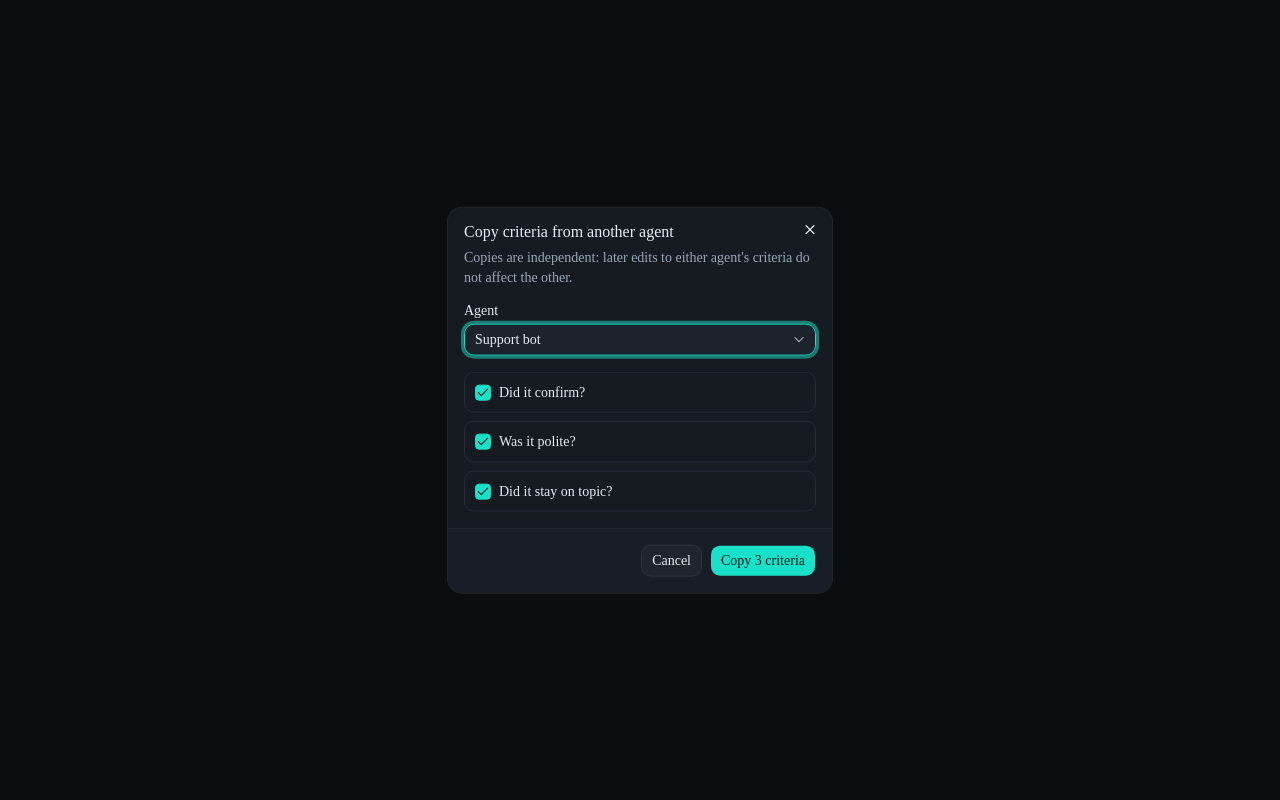
Test: CopyCriteriaDialog › starts from a full selection again after switching the source agent
Click the checkbox named "Was it polite?" next to "Was it polite?".
click(483, 442)  # box [475,434,491,450]
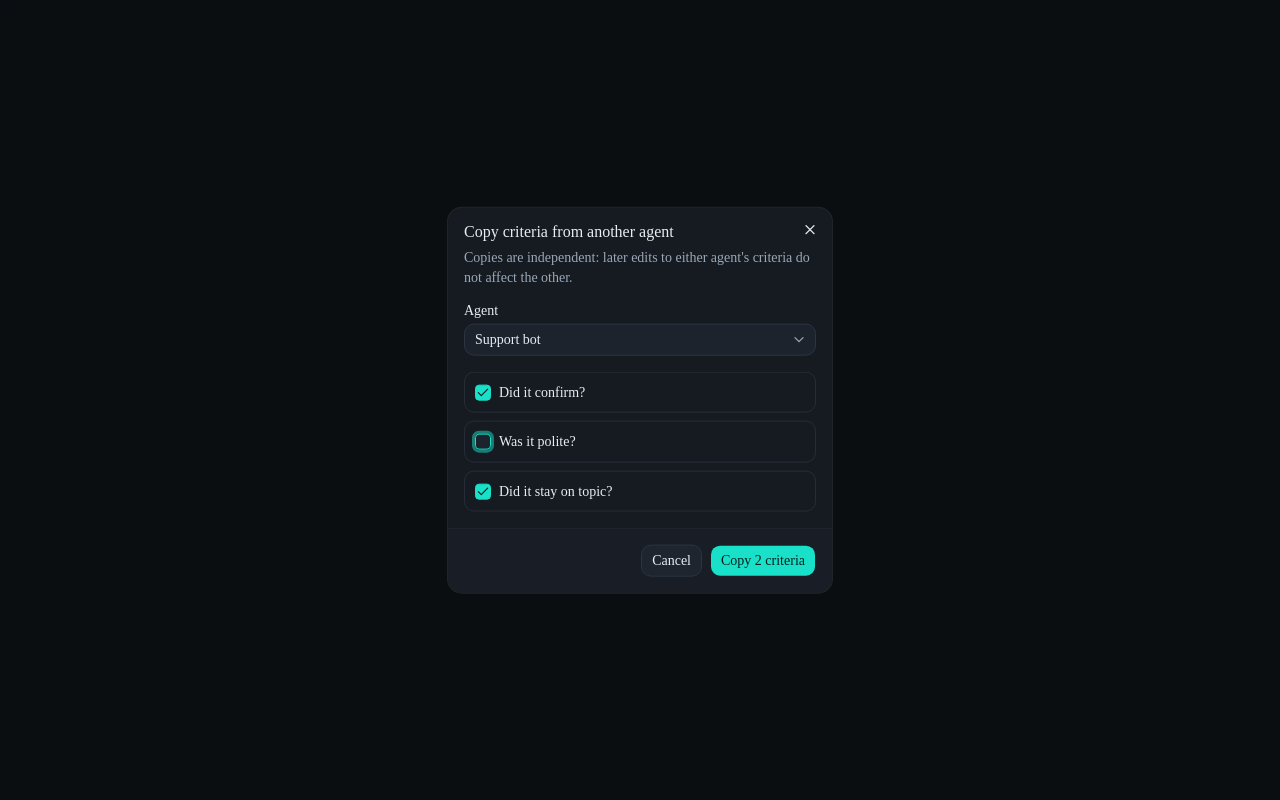
Expected: the button "Copy 2 criteria" is shown, [710,544,816,576]
Click the dropdown.
click(508, 339)  # box [464,324,816,356]
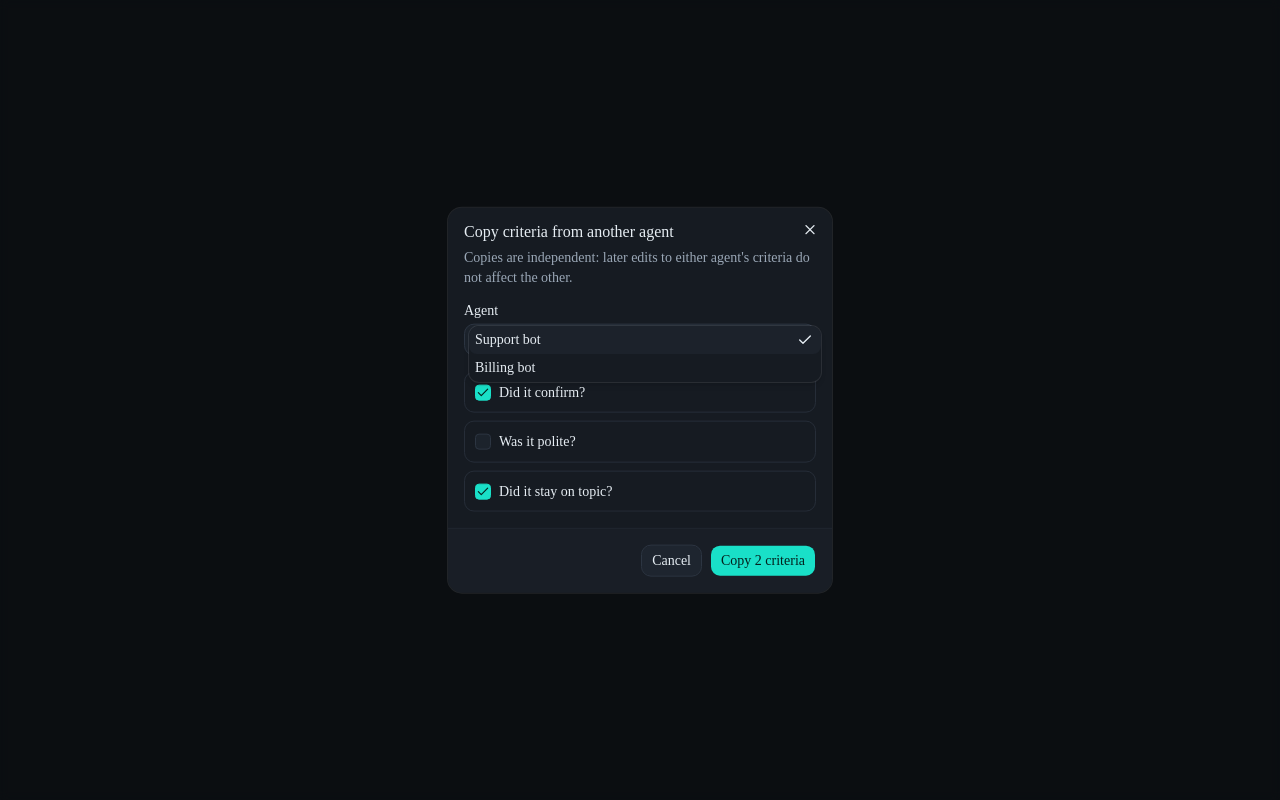
Click the option "Billing bot".
click(505, 367)  # box [475,360,535,375]
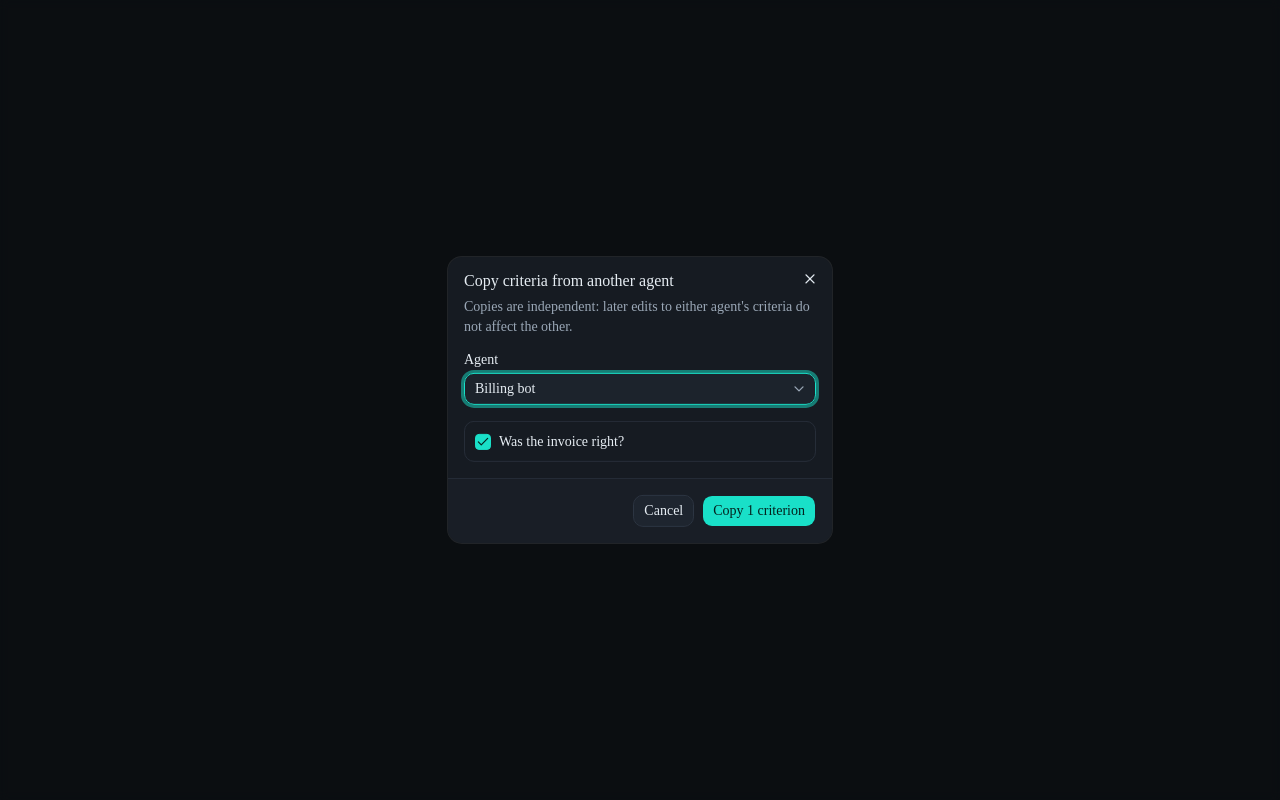
Expected: the checkbox named "Was the invoice right?" is checked, [475,434,491,450]
Click the dropdown.
click(505, 388)  # box [464,373,816,405]
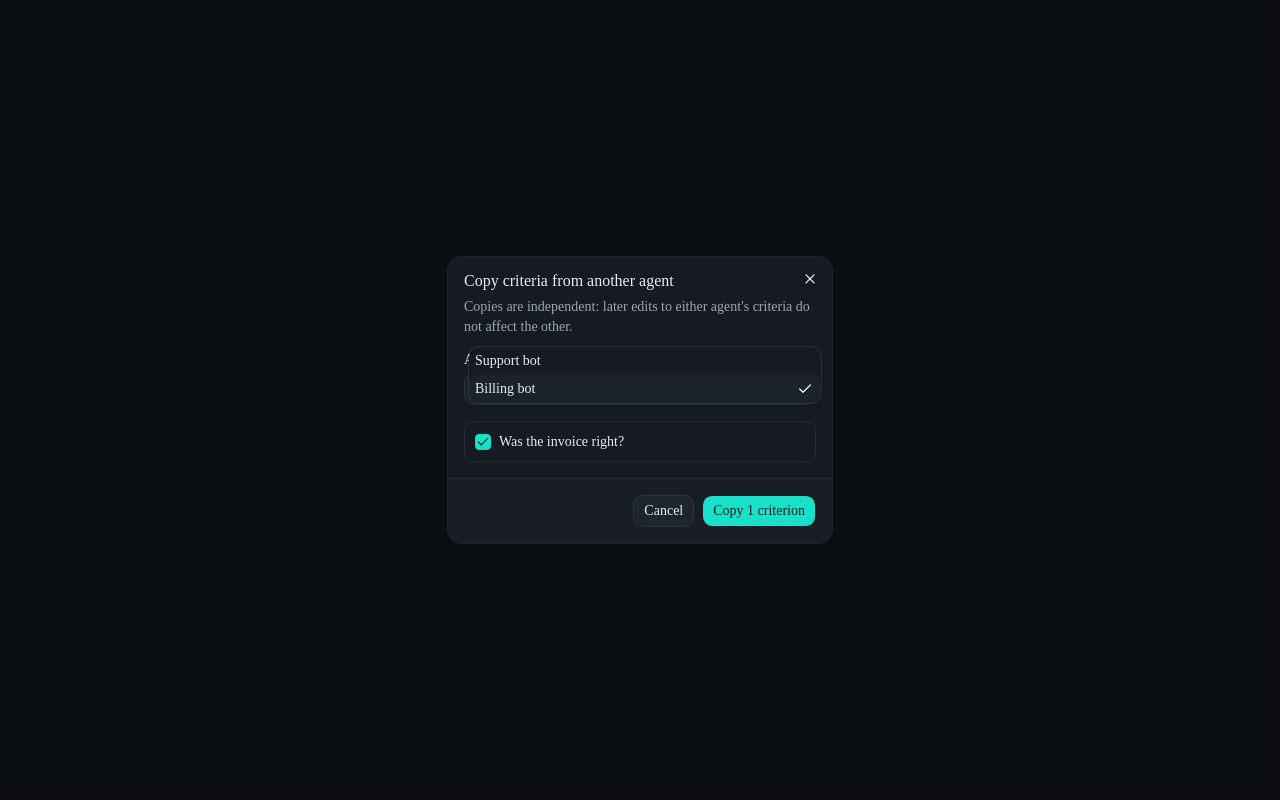
Click the option "Support bot".
click(508, 360)  # box [475,353,541,368]
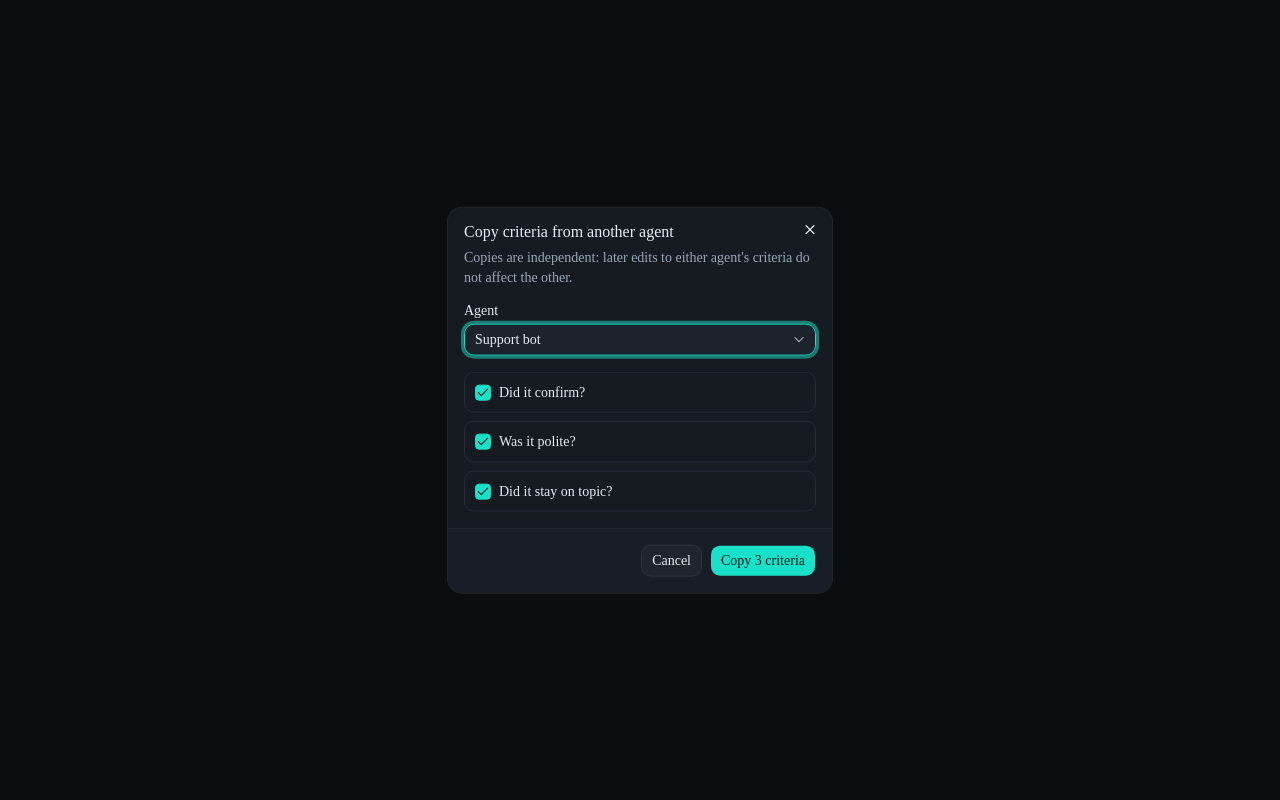
Expected: the checkbox named "Was it polite?" next to "Was it polite?" is checked, [475,434,491,450]
Expected: the button "Copy 3 criteria" is shown, [710,544,816,576]
